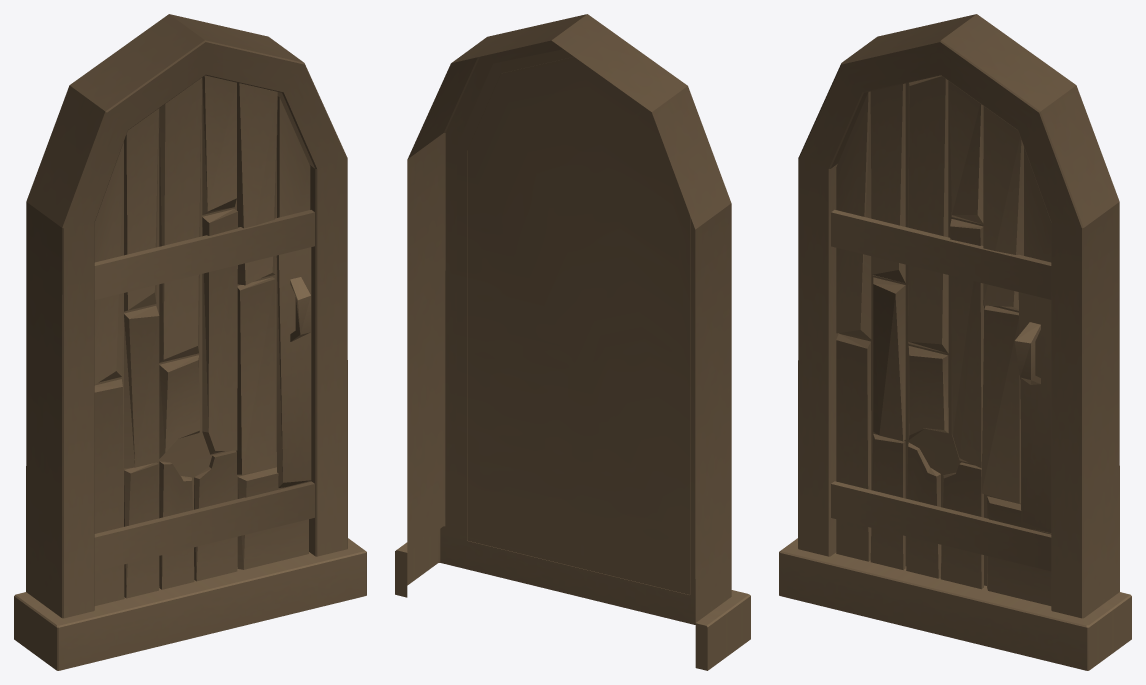
The model's file is ZLP_Build_D_47.FBX.
The picture shows the model from 3 angles, left to right: view 1: azimuth 30°, elevation 25°; view 2: azimuth 150°, elevation 25°; view 3: azimuth 330°, elevation 25°; orthographic projection.
Visible parts, largest first — view 1: ZLP_Build_D_47; view 2: ZLP_Build_D_47; view 3: ZLP_Build_D_47.
Boxes of the visible parts, x1,y1,x2,y2 form: ZLP_Build_D_47: [14, 14, 366, 670]; ZLP_Build_D_47: [395, 14, 750, 670]; ZLP_Build_D_47: [779, 14, 1131, 670].
Size of the model in its own units: 128 by 233 by 32.73.
